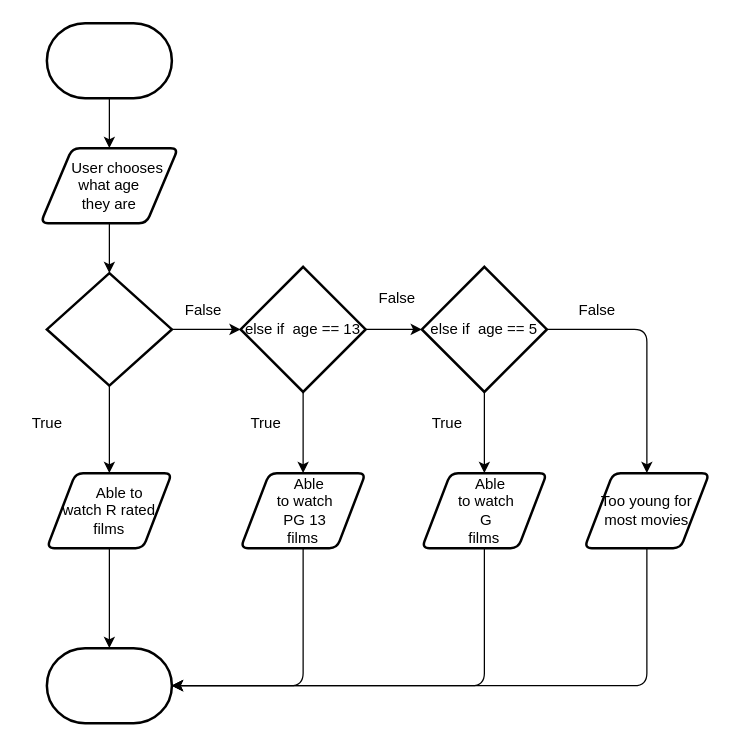
This 731x745 diagram has some shape labels left out. The shapes that lost their labels are listed below. From the top down, each one's centre as x and y in pixels, then its label:
At (108,60): "Start".
At (108,328): "if age == 17".
At (108,685): "Stop".
